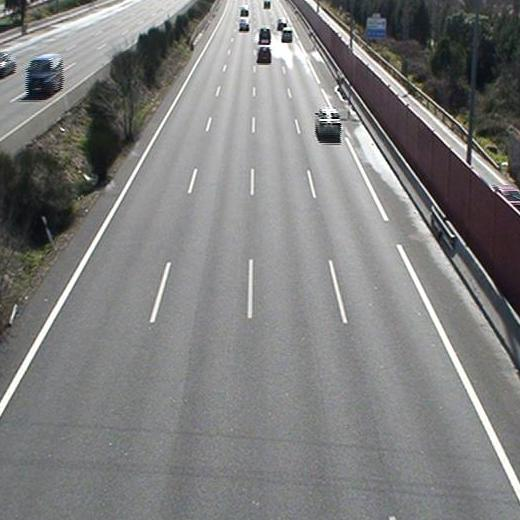car: (314, 108, 342, 138), (258, 46, 272, 63), (258, 27, 272, 44), (282, 28, 292, 42), (239, 19, 250, 31), (278, 17, 287, 30)
